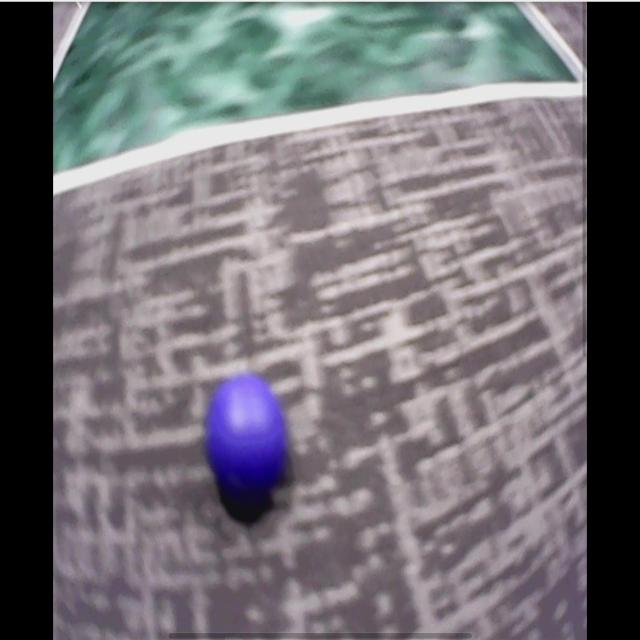ball: (208, 377, 284, 486)
